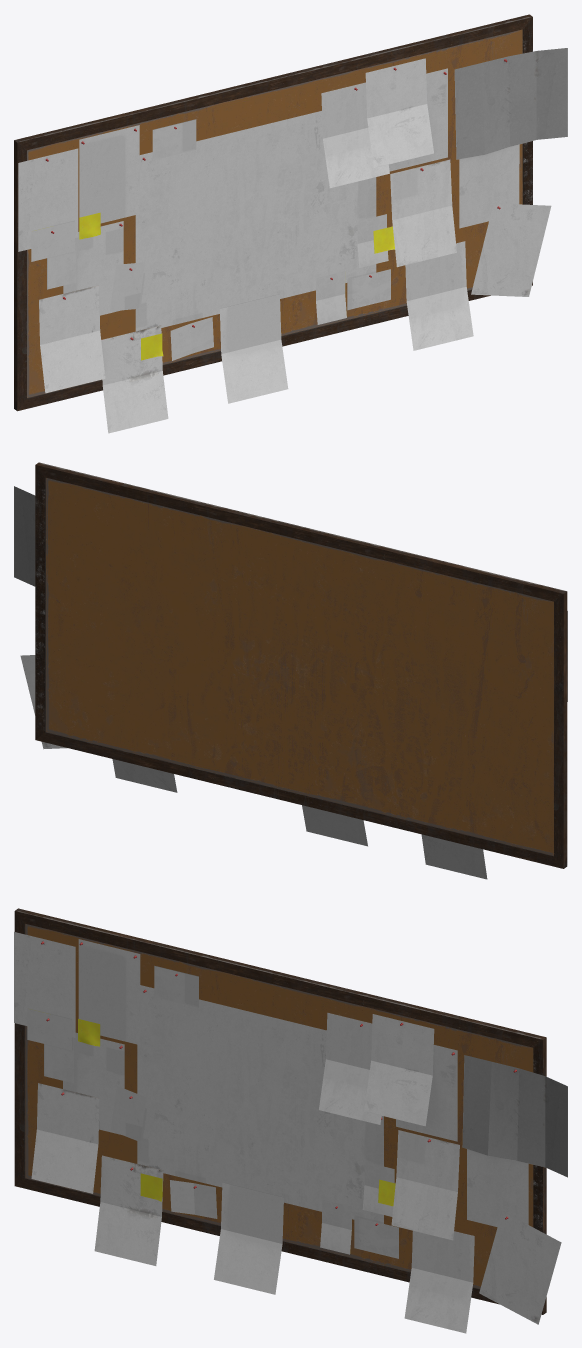
File: pizarra.obj
3 renders of one model, top to bottom at view 1: azimuth 30°, elevation 25°; view 2: azimuth 150°, elevation 25°; view 3: azimuth 330°, elevation 25°, orthographic. The views are drawn at different scales.
Visible parts, largest first — view 1: CorkBoard_Paper_A, CorkBoard_map_A, CorkBoard_Base_A, CorkBoard_Photo_A, CorkBoard_StickyNote_A; view 2: CorkBoard_Base_A, CorkBoard_Paper_A; view 3: CorkBoard_Paper_A, CorkBoard_map_A, CorkBoard_Base_A, CorkBoard_Photo_A, CorkBoard_StickyNote_A.
Part boxes in pixels (x1,y1,x2,y2): CorkBoard_Paper_A: [18, 48, 567, 433]; CorkBoard_map_A: [135, 111, 376, 331]; CorkBoard_Base_A: [14, 14, 532, 411]; CorkBoard_Photo_A: [31, 119, 390, 360]; CorkBoard_StickyNote_A: [79, 212, 394, 360]; CorkBoard_Base_A: [35, 462, 567, 868]; CorkBoard_Paper_A: [14, 486, 567, 879]; CorkBoard_Paper_A: [14, 932, 567, 1333]; CorkBoard_map_A: [137, 985, 383, 1223]; CorkBoard_Base_A: [14, 908, 546, 1314]; CorkBoard_Photo_A: [27, 965, 398, 1258]; CorkBoard_StickyNote_A: [78, 1019, 395, 1206].
Size of the model in its own units: 1.9 by 1.02 by 0.0704.
Materials: 1 (1 with a texture image).
